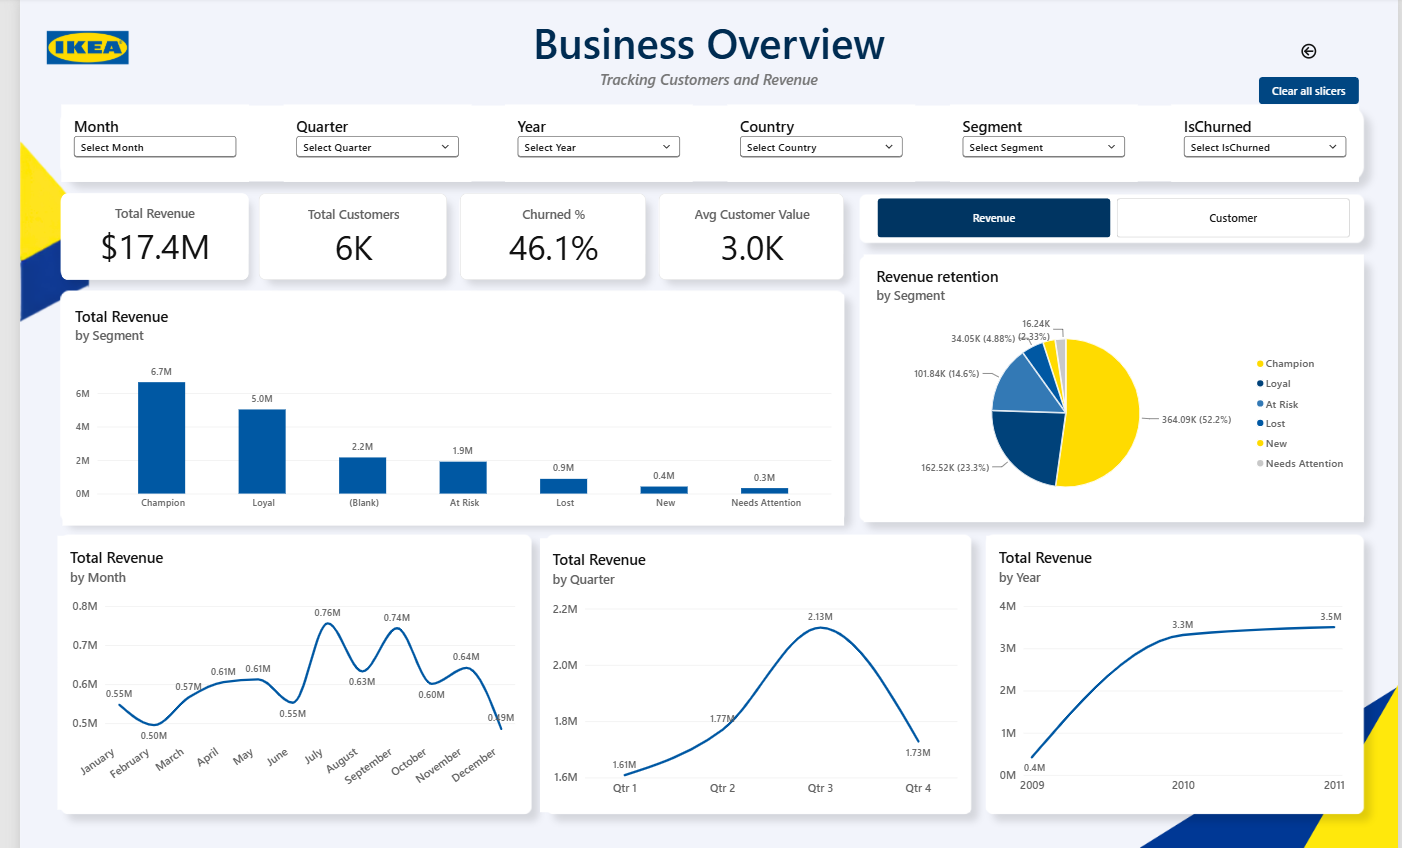

The dashboard page shown, as its layout file describes it:
{"tool":"powerbi","page":{"name":"Overview","canvas":[1750,1100],"ordinal":1},"visuals":[{"type":"cardVisual","fields":{"Data":["Sheet1.Total Revenue"]},"box":[52.5,250,238.3,110],"z":0},{"type":"columnChart","fields":{"Category":["Sheet1.Segment"],"Y":["Sum(Sheet1.Revenue)"]},"box":[54,376.3,992.9,293.9],"z":0,"group":"g2"},{"type":"cardVisual","fields":{"Data":["Sheet1.Total Customers"]},"box":[303.3,250,239.2,110],"z":1000},{"type":"pieChart","fields":{"Category":["Sheet1.Segment"],"Y":["CountNonNull(Sheet1.IsChurned)"]},"box":[1072.4,326.3,635.4,340],"z":1000,"group":"g2"},{"type":"cardVisual","fields":{"Data":["Sheet1.Churned %"]},"box":[558.3,250,236.7,110],"z":2000},{"type":"lineChart","fields":{"Category":["Sheet1.InvoiceMonth.Variation.Date Hierarchy.Month"],"Y":["Sum(Sheet1.Revenue)"]},"box":[47.7,683.9,597.3,347.9],"z":2000,"group":"g2"},{"type":"cardVisual","fields":{"Data":["Sheet1.Avg Customer Value"]},"box":[810.8,250,235,110],"z":3000},{"type":"lineChart","fields":{"Category":["Sheet1.InvoiceMonth.Variation.Date Hierarchy.Quarter"],"Y":["Sum(Sheet1.Revenue)"]},"box":[660.9,686.1,546.5,347.9],"z":3000,"group":"g2"},{"type":"listSlicer","fields":{"Values":["Sheet1.InvoiceDate.Variation.Date Hierarchy.Month"]},"box":[52.2,136.6,238.1,98.1],"z":4000},{"type":"lineChart","fields":{"Category":["Sheet1.InvoiceMonth.Variation.Date Hierarchy.Year"],"Y":["Sum(Sheet1.Revenue)"]},"box":[1227.4,683.9,471.8,347.9],"z":4000,"group":"g2"},{"type":"listSlicer","fields":{"Values":["Sheet1.InvoiceDate.Variation.Date Hierarchy.Quarter"]},"box":[334.4,136.6,238.1,98.1],"z":5000},{"type":"listSlicer","fields":{"Values":["Sheet1.InvoiceDate.Variation.Date Hierarchy.Year"]},"box":[616.6,136.6,238.1,98.1],"z":6000},{"type":"listSlicer","fields":{"Values":["Sheet1.Country"]},"box":[898.8,136.6,238.1,98.1],"z":7000},{"type":"listSlicer","fields":{"Values":["Sheet1.Segment"]},"box":[1180.9,136.6,238.1,98.1],"z":8000},{"type":"listSlicer","fields":{"Values":["Sheet1.IsChurned"]},"box":[1463.1,136.6,238.1,98.1],"z":9000},{"type":"bookmarkNavigator","box":[1089.2,255.6,600,50],"z":10000},{"type":"group","id":"g1","title":"Group 1","box":[47.7,326.3,1660.1,709.1],"z":11000},{"type":"image","box":[0,19.1,172.5,90],"z":12000},{"type":"group","id":"g2","title":"Revenue","box":[47.7,326.3,1660.1,707.7],"z":12000,"group":"g1"},{"type":"textbox","box":[576.2,20,597.5,90],"z":13000},{"type":"actionButton","box":[1573.5,46,127,46],"z":14000},{"type":"actionButton","box":[1573.6,101.8,127.3,34.5],"z":15000},{"type":"textbox","box":[576.4,92.1,597,27],"z":16000}]}

Visuals, with their boxes on the page's 1750x1100 design canvas (x1, y1, x2, y2). These are canvas units, not pixel positions in the 1402x848 screenshot, which may show the page scaled, cropped or inside an application window:
cardVisual - Sheet1.Total Revenue: bbox=[52, 250, 291, 360]
columnChart - Sheet1.Segment x Sum(Sheet1.Revenue): bbox=[54, 376, 1047, 670]
cardVisual - Sheet1.Total Customers: bbox=[303, 250, 542, 360]
pieChart - Sheet1.Segment x CountNonNull(Sheet1.IsChurned): bbox=[1072, 326, 1708, 666]
cardVisual - Sheet1.Churned %: bbox=[558, 250, 795, 360]
lineChart - Sheet1.InvoiceMonth.Variation.Date Hierarchy.Month x Sum(Sheet1.Revenue): bbox=[48, 684, 645, 1032]
cardVisual - Sheet1.Avg Customer Value: bbox=[811, 250, 1046, 360]
lineChart - Sheet1.InvoiceMonth.Variation.Date Hierarchy.Quarter x Sum(Sheet1.Revenue): bbox=[661, 686, 1207, 1034]
listSlicer - Sheet1.InvoiceDate.Variation.Date Hierarchy.Month: bbox=[52, 137, 290, 235]
lineChart - Sheet1.InvoiceMonth.Variation.Date Hierarchy.Year x Sum(Sheet1.Revenue): bbox=[1227, 684, 1699, 1032]
listSlicer - Sheet1.InvoiceDate.Variation.Date Hierarchy.Quarter: bbox=[334, 137, 572, 235]
listSlicer - Sheet1.InvoiceDate.Variation.Date Hierarchy.Year: bbox=[617, 137, 855, 235]
listSlicer - Sheet1.Country: bbox=[899, 137, 1137, 235]
listSlicer - Sheet1.Segment: bbox=[1181, 137, 1419, 235]
listSlicer - Sheet1.IsChurned: bbox=[1463, 137, 1701, 235]
bookmarkNavigator: bbox=[1089, 256, 1689, 306]
"Group 1" group: bbox=[48, 326, 1708, 1035]
image: bbox=[0, 19, 172, 109]
"Revenue" group: bbox=[48, 326, 1708, 1034]
textbox: bbox=[576, 20, 1174, 110]
actionButton: bbox=[1574, 46, 1700, 92]
actionButton: bbox=[1574, 102, 1701, 136]
textbox: bbox=[576, 92, 1173, 119]
